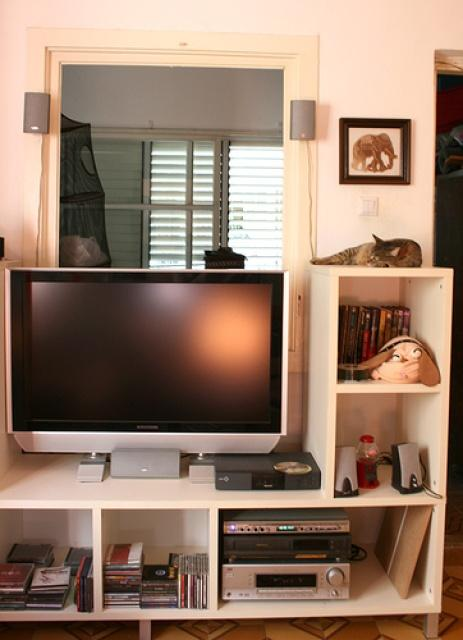AIO PC-Monitor-TV: (5, 266, 289, 454)
Rak: (326, 268, 451, 504)
